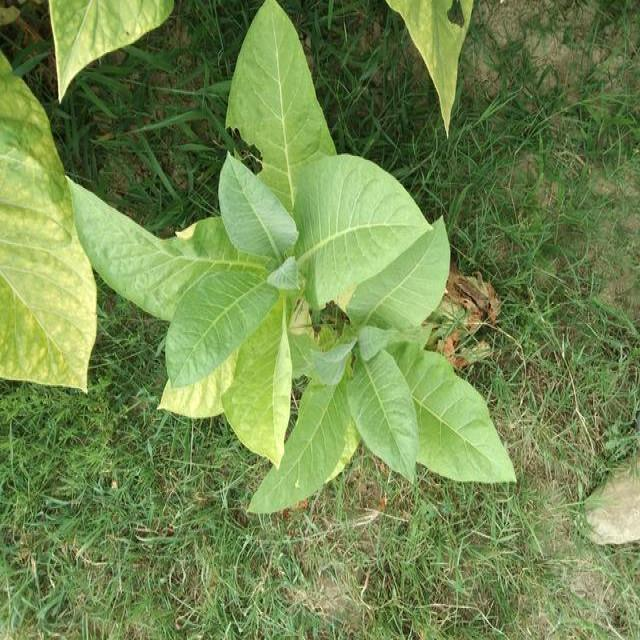crop: (136, 3, 522, 491)
